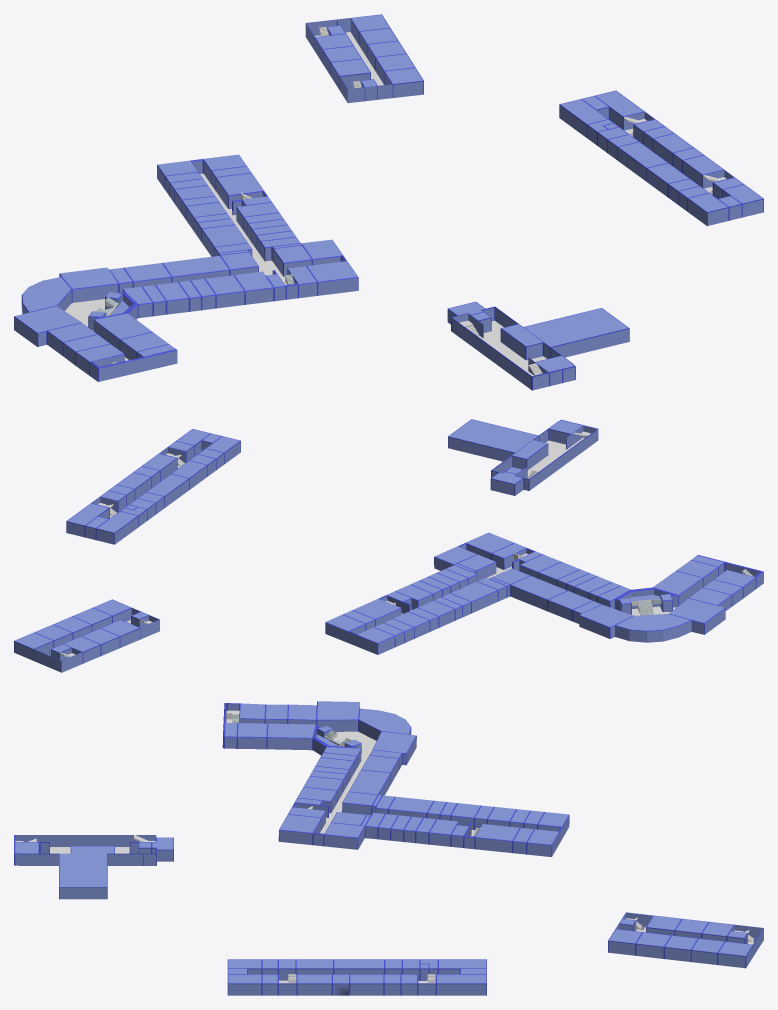
Rendered from dstu_5.glb.
3 views of the same model, one above another, from view 1: azimuth 30°, elevation 25°; view 2: azimuth 150°, elevation 25°; view 3: azimuth 270°, elevation 25° (orthographic). The views are drawn at different scales.
Visible parts, largest first — view 1: Plane.005, 6, K5, 65; view 2: Plane.005, 6, K5, 65; view 3: Plane.005, 6, K5, 65.
Part boxes in pixels (bbox=[...]): Plane.005: bbox=[14, 154, 358, 381]; 6: bbox=[559, 90, 763, 226]; K5: bbox=[447, 301, 629, 390]; 65: bbox=[305, 14, 423, 103]; Plane.005: bbox=[325, 532, 763, 654]; 6: bbox=[66, 429, 240, 544]; K5: bbox=[448, 419, 598, 495]; 65: bbox=[14, 599, 159, 672]; Plane.005: bbox=[222, 701, 569, 856]; 6: bbox=[227, 959, 486, 995]; K5: bbox=[14, 835, 173, 899]; 65: bbox=[608, 912, 763, 968].
Bounding box in the file's own units: 155 × 5.4 × 170.
